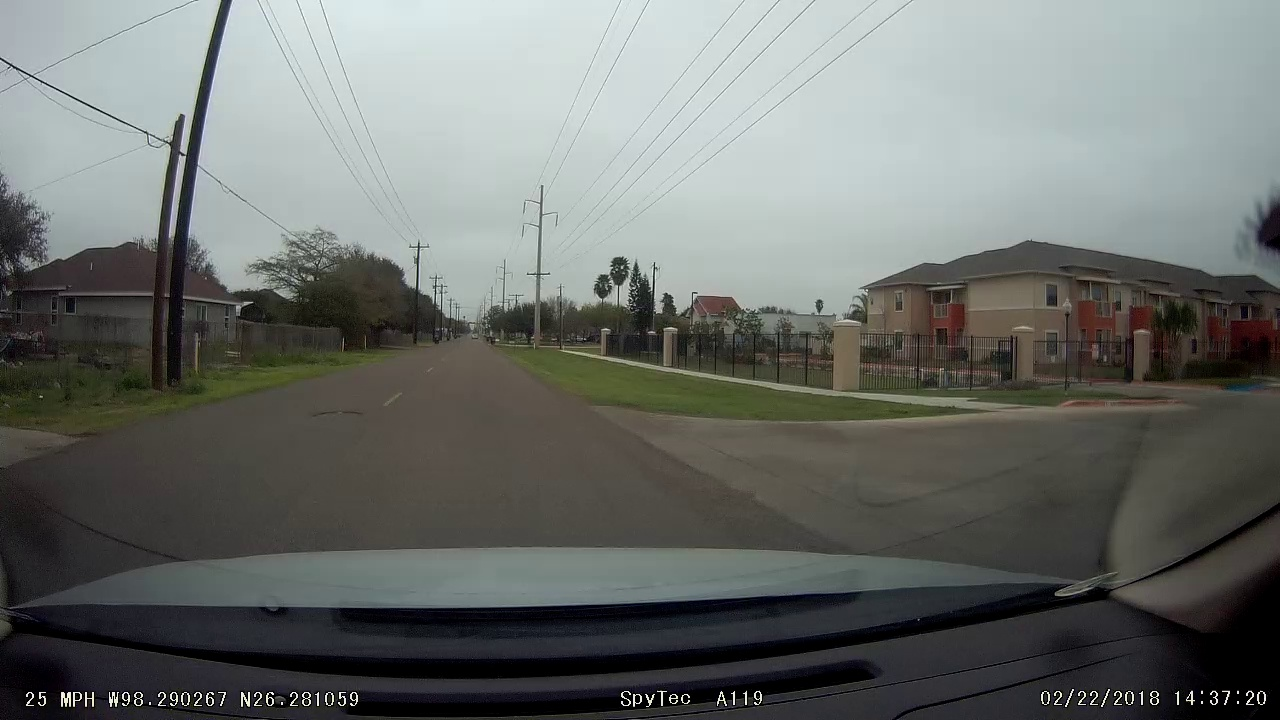manhole: (305, 405, 366, 427)
